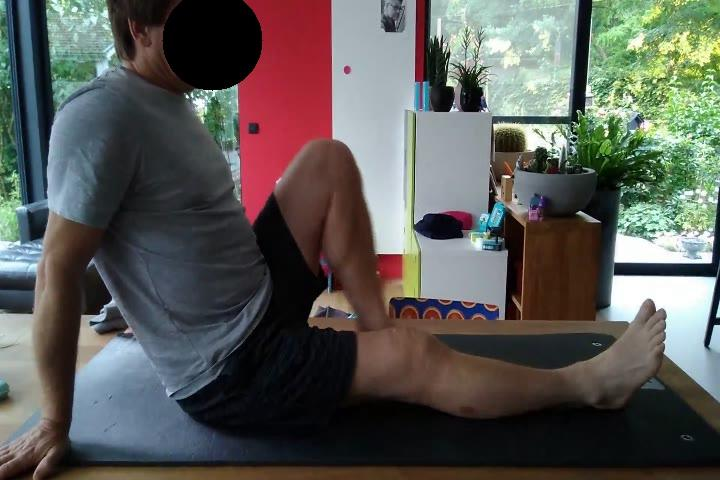lower_body: (177, 138, 670, 433)
